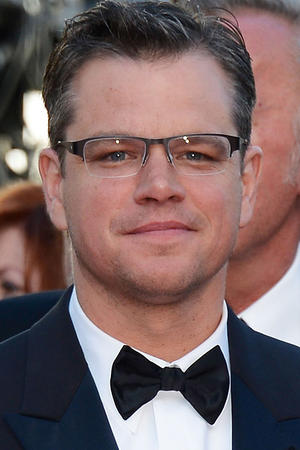llen: (167, 135, 232, 176)
rlen: (83, 137, 147, 178)
